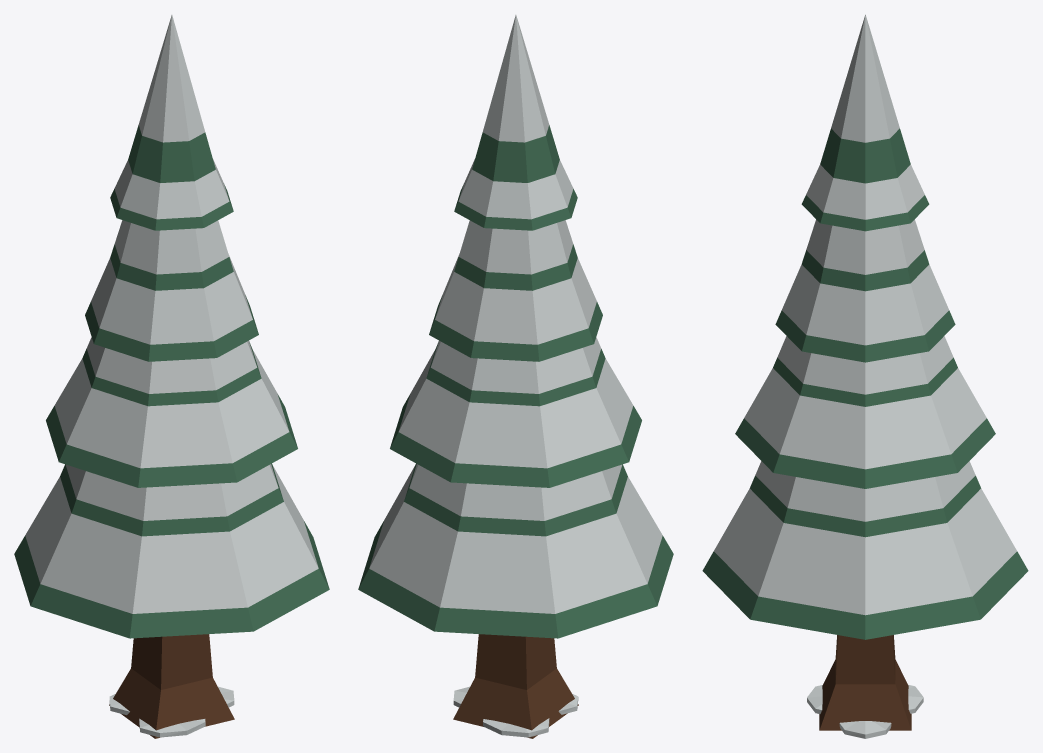
The model's file is tree_pineRoundE_winter.glb.
3 renders of one model, left to right at view 1: azimuth 30°, elevation 25°; view 2: azimuth 150°, elevation 25°; view 3: azimuth 270°, elevation 25°, orthographic.
Visible parts, largest first — view 1: geometry; view 2: geometry; view 3: geometry.
Part boxes in pixels (x1,y1,x2,y2): geometry: (14, 15, 329, 738); geometry: (358, 15, 673, 738); geometry: (702, 14, 1028, 738).
Size of the model in its own units: 0.532 by 1.25 by 0.532.
